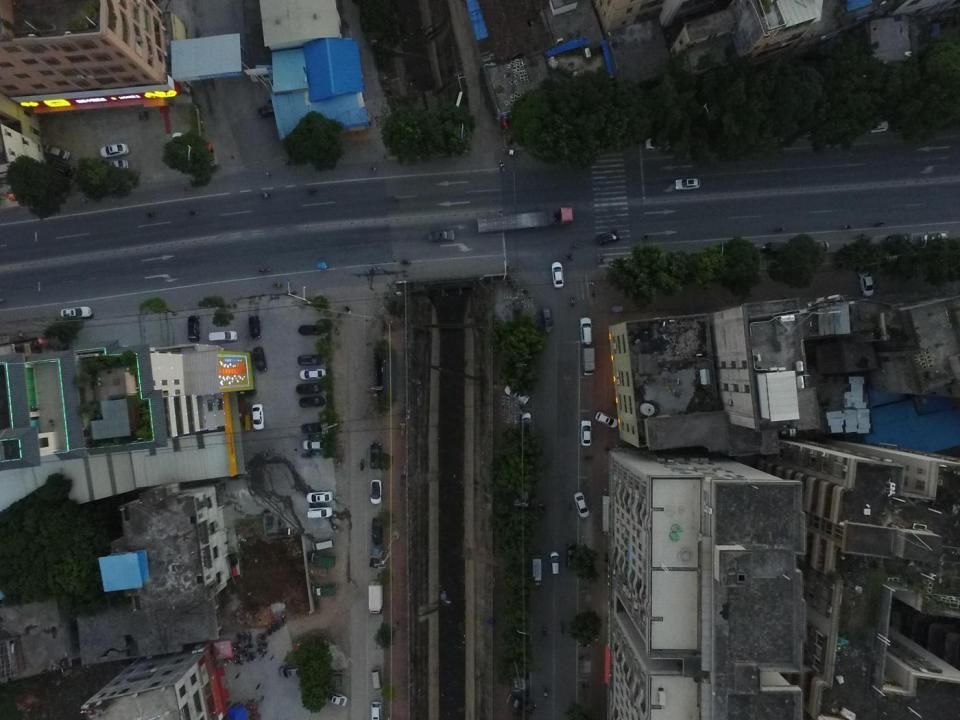car: (506, 694, 536, 714), (504, 385, 531, 405), (99, 142, 129, 159), (322, 690, 348, 707), (596, 229, 622, 246), (278, 664, 305, 680), (858, 270, 874, 297), (44, 144, 70, 160), (60, 306, 92, 319), (573, 492, 589, 518), (540, 307, 556, 333), (594, 411, 618, 428), (47, 161, 74, 176), (579, 317, 593, 345), (186, 315, 200, 342), (253, 346, 267, 373), (251, 403, 265, 430), (306, 491, 333, 505), (674, 177, 701, 191), (247, 316, 262, 340), (299, 368, 326, 381), (369, 442, 382, 469), (551, 261, 564, 288), (921, 231, 946, 244), (371, 518, 383, 545), (580, 419, 592, 446), (428, 230, 455, 242), (306, 507, 332, 519), (644, 137, 668, 150), (299, 397, 327, 408), (886, 233, 914, 244), (370, 479, 382, 504), (298, 324, 325, 335), (297, 354, 324, 365), (296, 383, 323, 394), (548, 551, 560, 575), (101, 160, 129, 170), (301, 422, 325, 433), (302, 439, 326, 450), (521, 412, 532, 436), (565, 543, 575, 569), (370, 701, 382, 720)
truck: (478, 206, 574, 233), (368, 581, 384, 614), (308, 552, 337, 568), (581, 348, 595, 376), (312, 582, 338, 597), (368, 546, 380, 568)
van: (257, 102, 284, 119), (208, 330, 238, 342), (530, 556, 542, 586), (312, 537, 335, 551), (371, 668, 382, 690)
